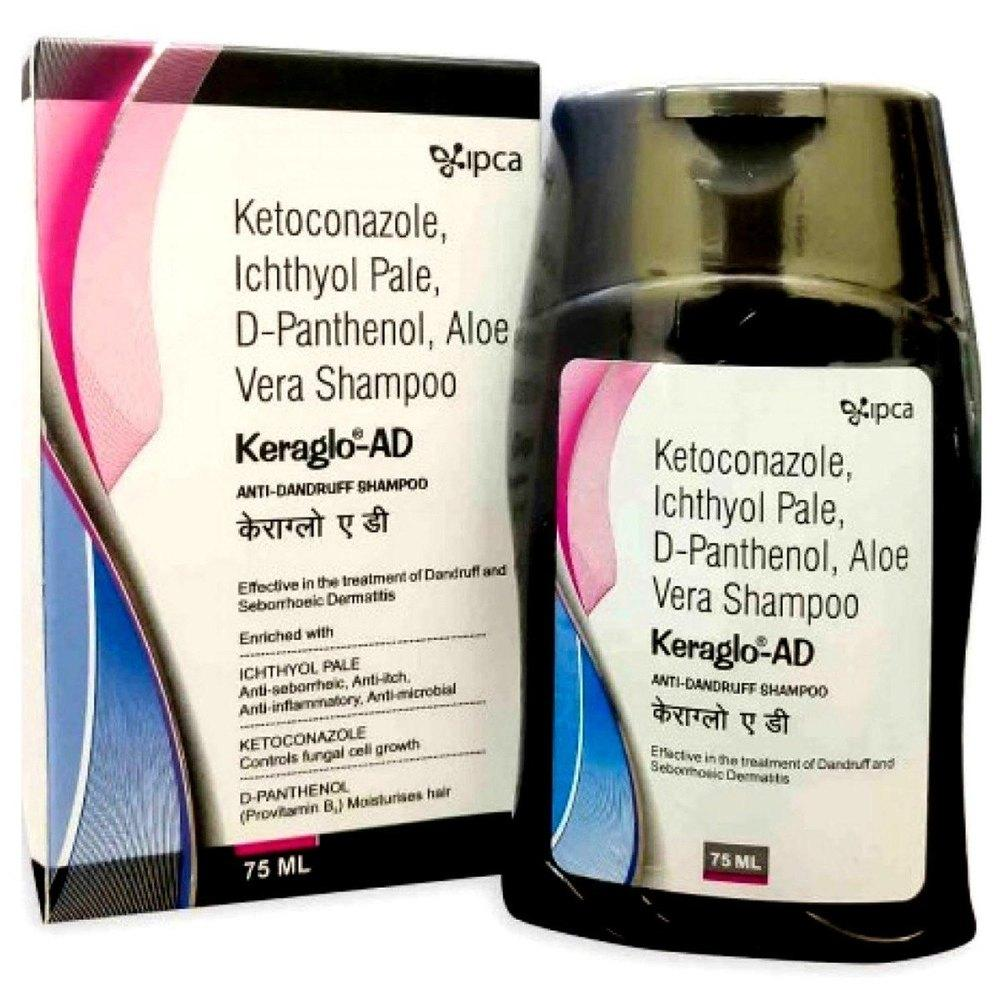KeraGlo: (500, 88, 983, 967)
